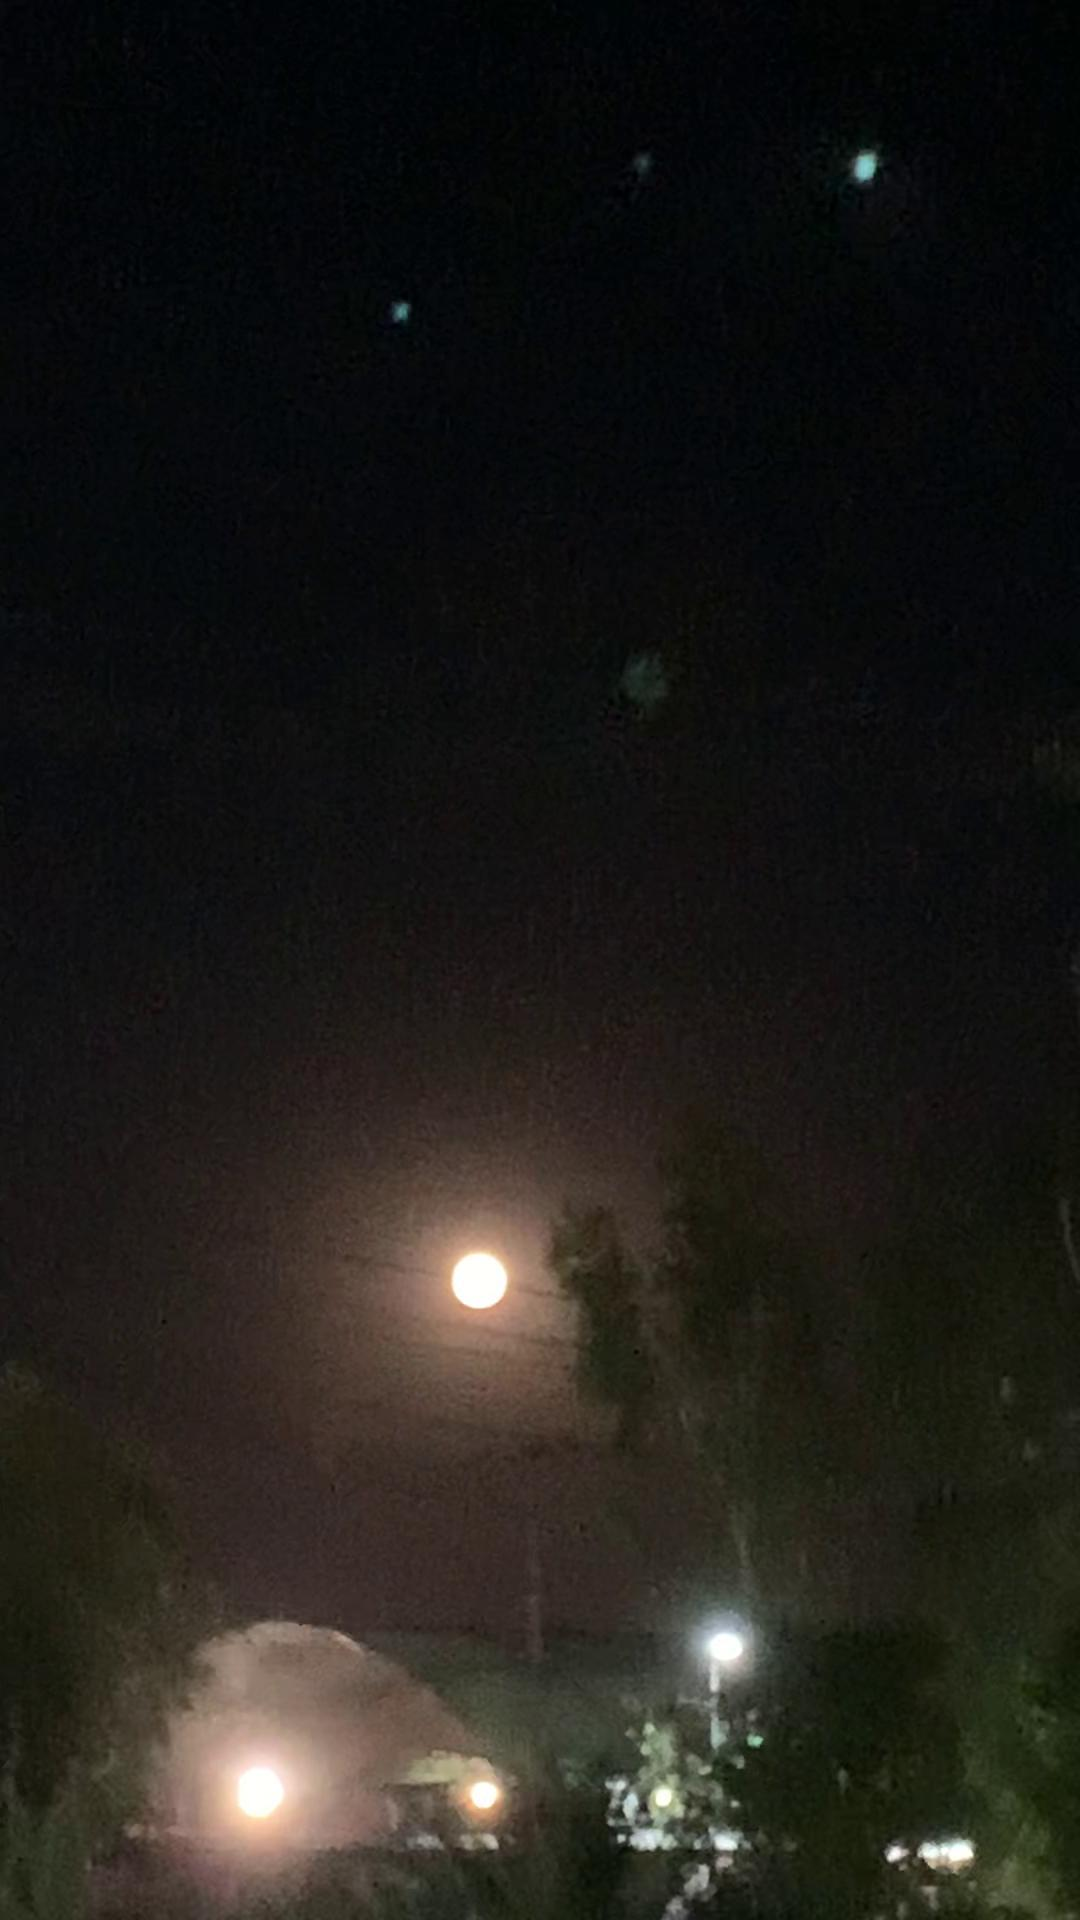moon: (434, 1237, 522, 1312)
